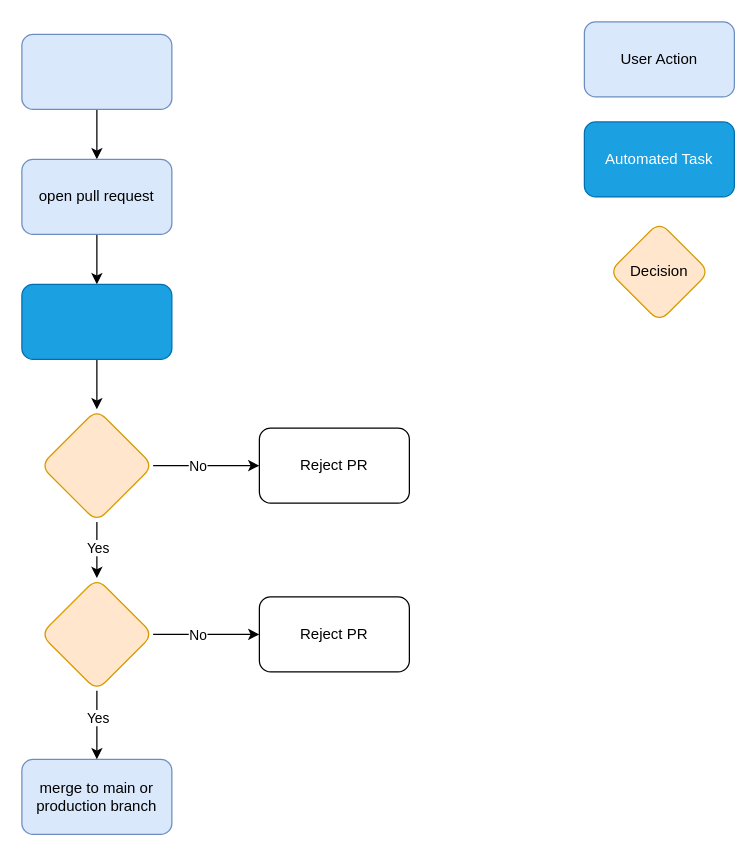
Image size: 756x856. Some labels were removed from this diagram. The shapes that lost their labels are listed below. From the top down, each one's centre as x and y in pixels, then its label:
At point (96, 71): "push code to staging branch".
At point (96, 321): "Run Jest tests".
At point (96, 465): "passes Jest tests?".
At point (96, 634): "passes PR review?".
